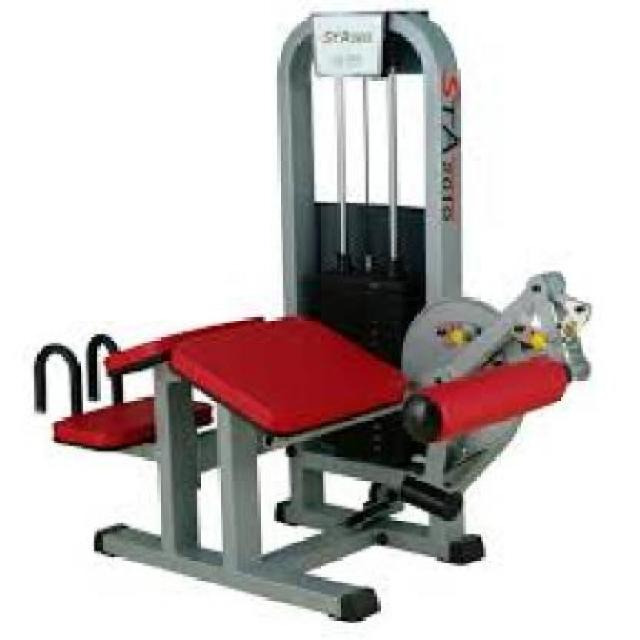reg curl machine: (31, 11, 603, 614)
